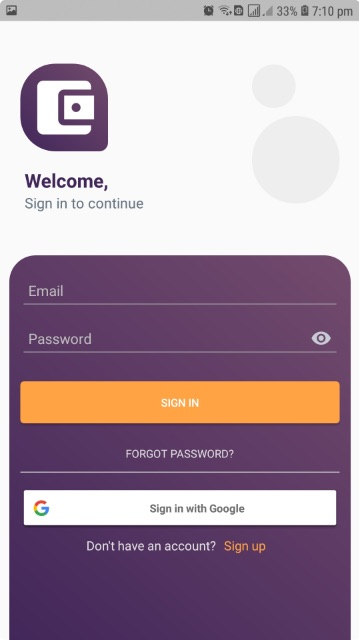EditText: (24, 331, 337, 354), (24, 285, 337, 306)
Icon: (311, 331, 331, 346)
Image: (21, 64, 109, 153)
Text: (25, 198, 144, 213), (25, 173, 109, 192), (87, 540, 217, 552), (126, 449, 235, 459), (29, 333, 92, 345), (224, 540, 266, 554), (29, 285, 64, 297)
TextButton: (20, 381, 341, 425), (24, 490, 337, 526)
UpperTaskBar: (1, 1, 359, 22)
